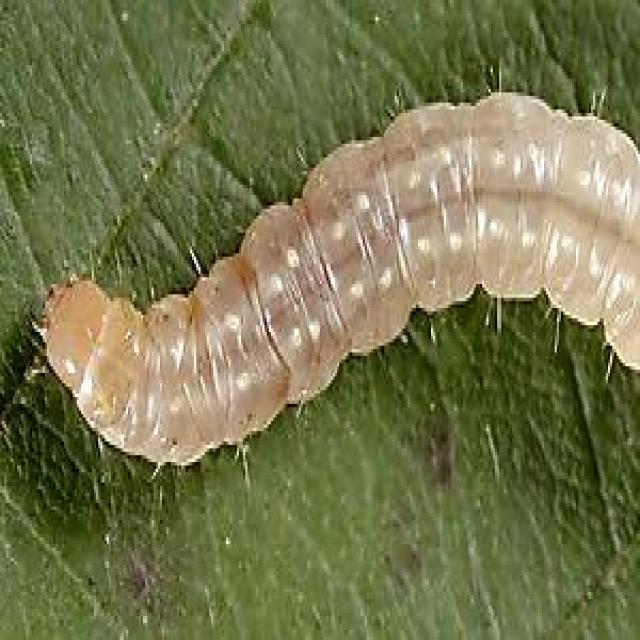armyworm: (29, 83, 640, 482)
